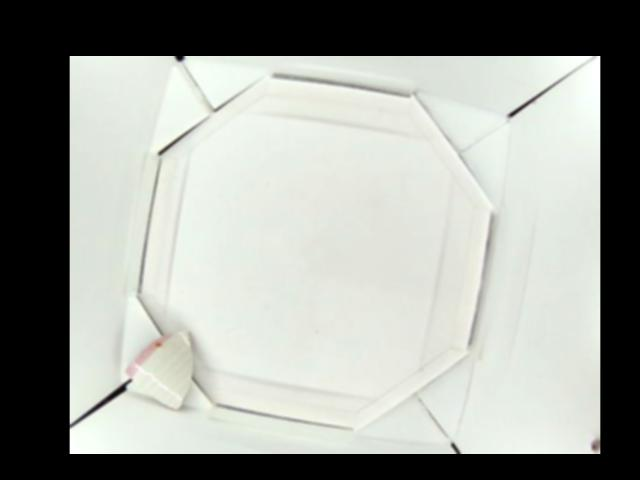China: (122, 324, 196, 409)
